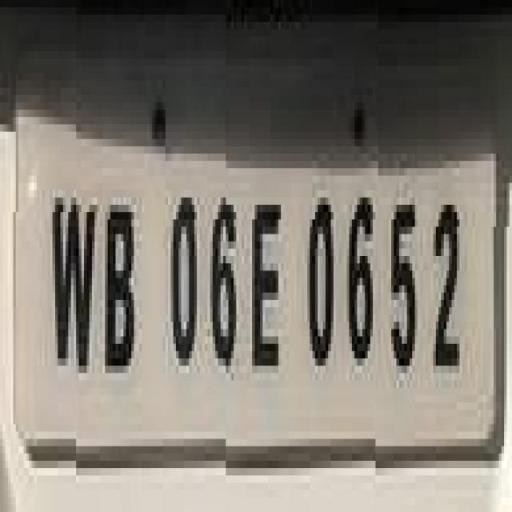number plate: (0, 116, 494, 468)
